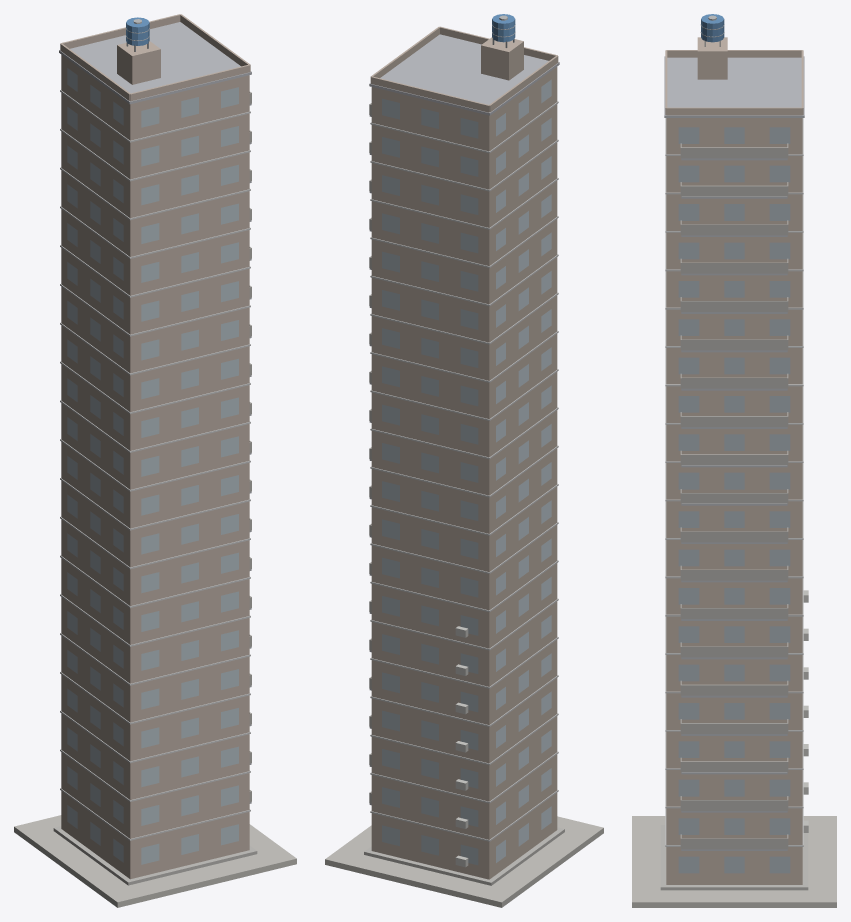
File: 09_residential_high-03.glb
3 renders of one model, left to right at view 1: azimuth 30°, elevation 25°; view 2: azimuth 150°, elevation 25°; view 3: azimuth 270°, elevation 25°, orthographic.
Bounding box in the file's own units: 15 × 67.32 × 15.
